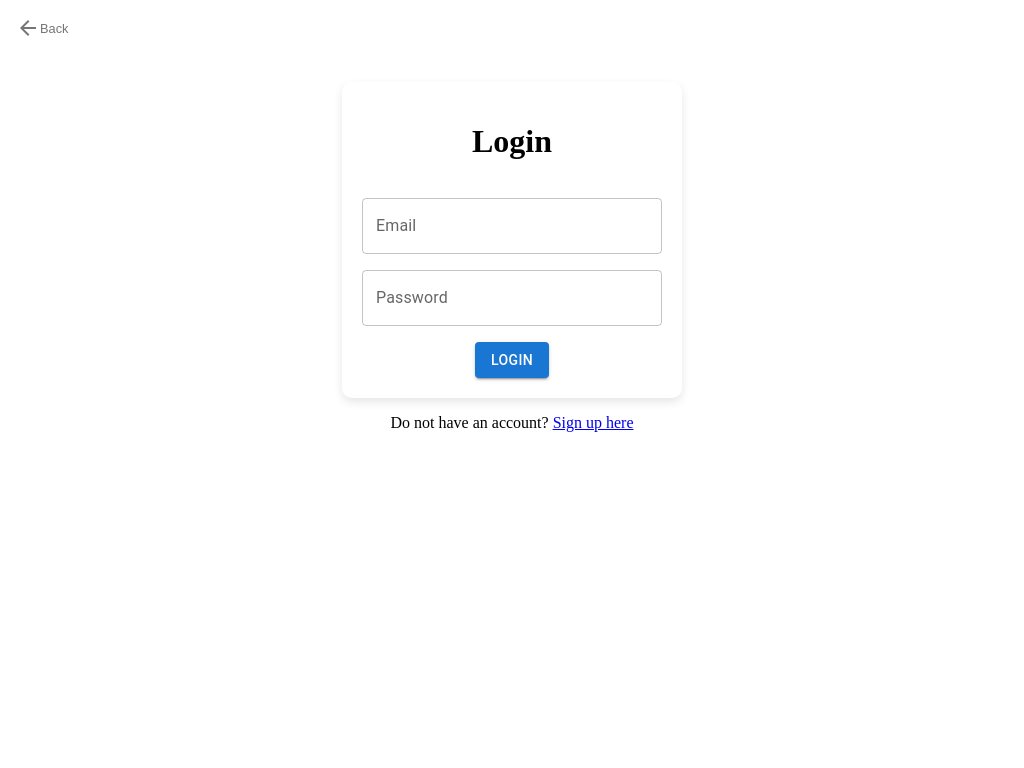
LoginPage Component › when login fails the error modal should display
# Simulate user input
Type "randomemail@example.com" into the field labelled "Email" at (512,226), box left=362, top=198, right=662, bottom=254
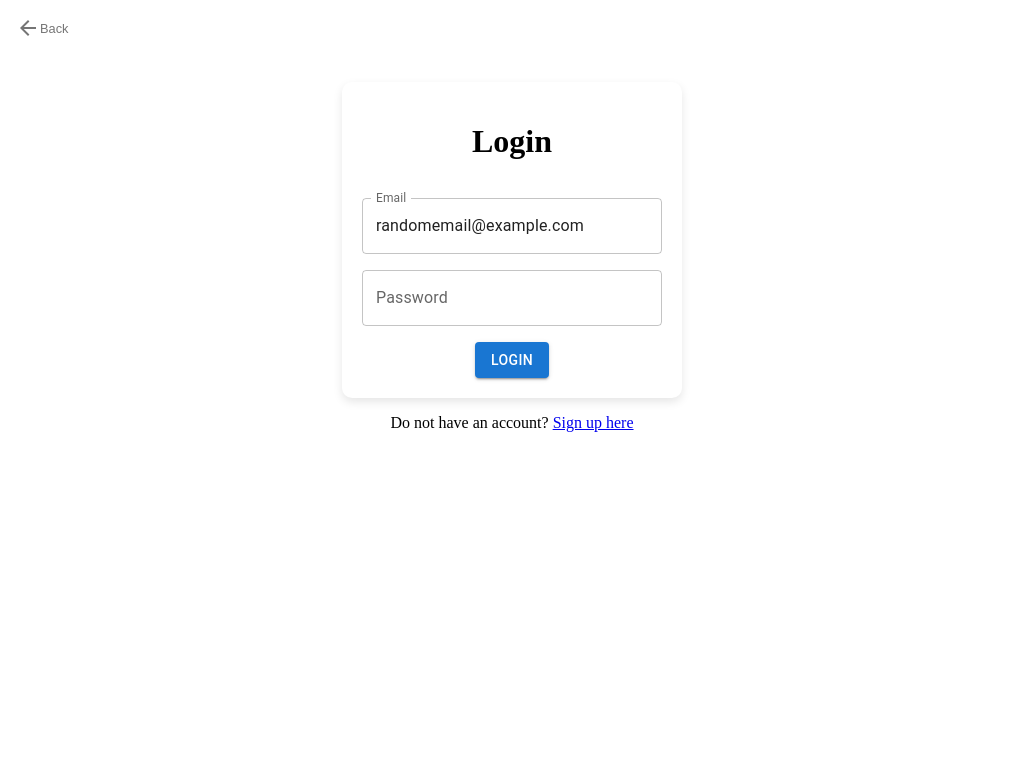
Type "notpassword" into the password field labelled "Password" at (512,298), box left=362, top=270, right=662, bottom=326
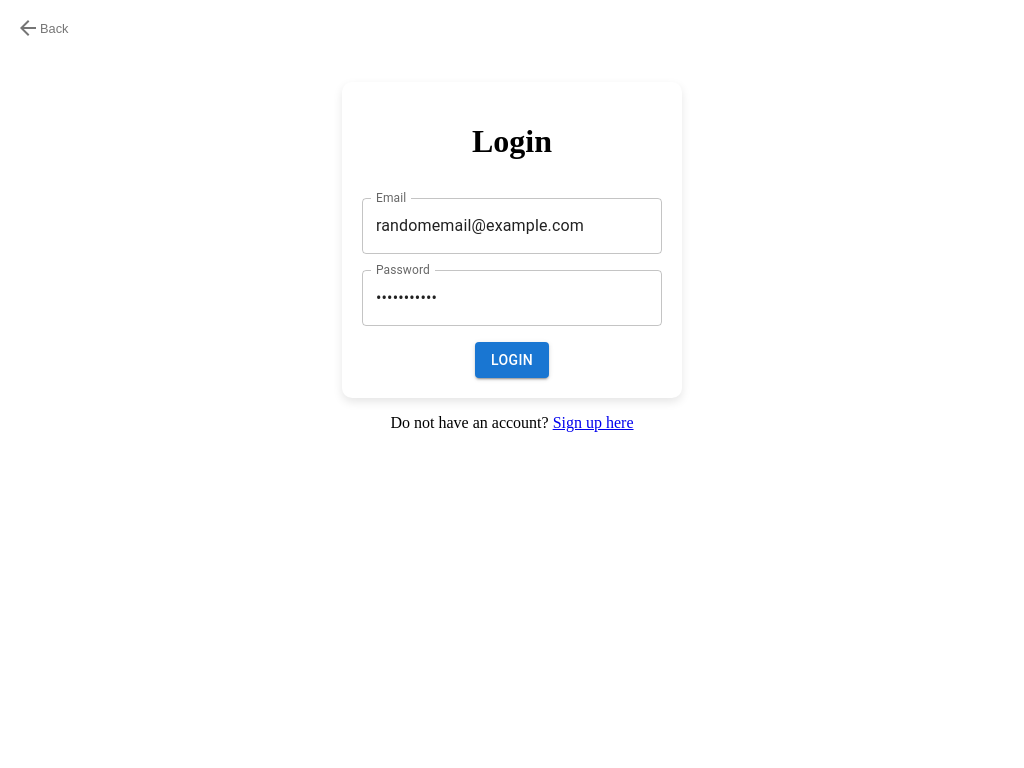
# Simulate form submission
Click the button "Login" at (512,360), box left=475, top=342, right=549, bottom=378
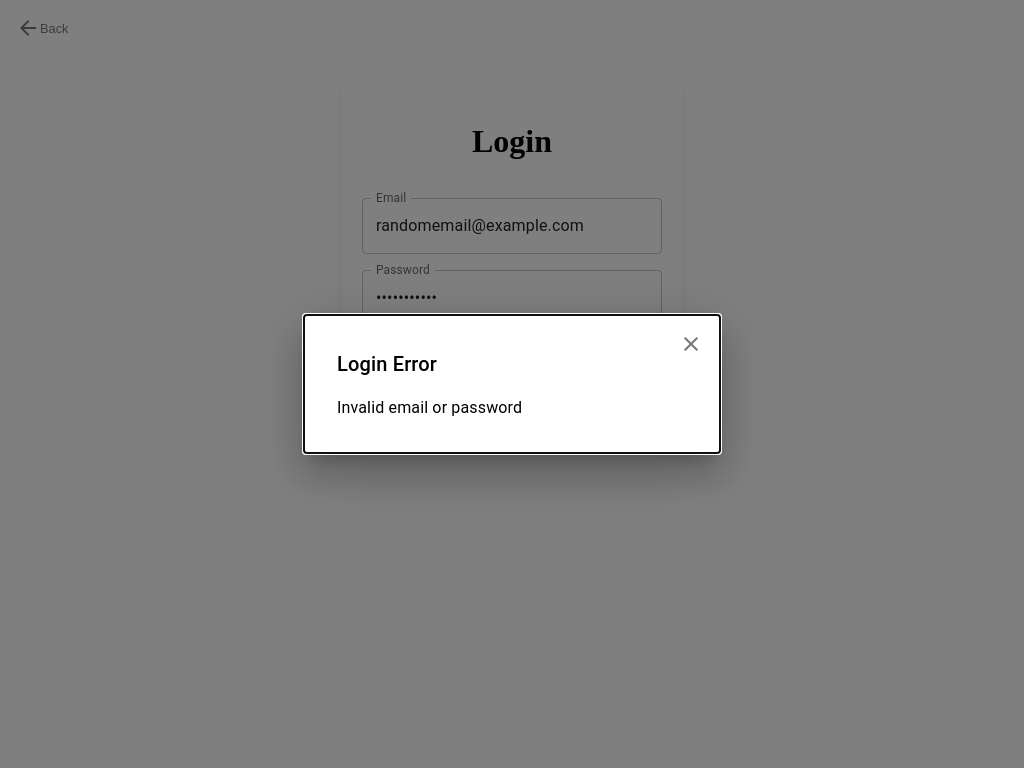
Expected: the heading "Login Error" is shown, left=337, top=352, right=437, bottom=376
Expected: the text "Invalid email or password" is shown, left=337, top=398, right=522, bottom=417
